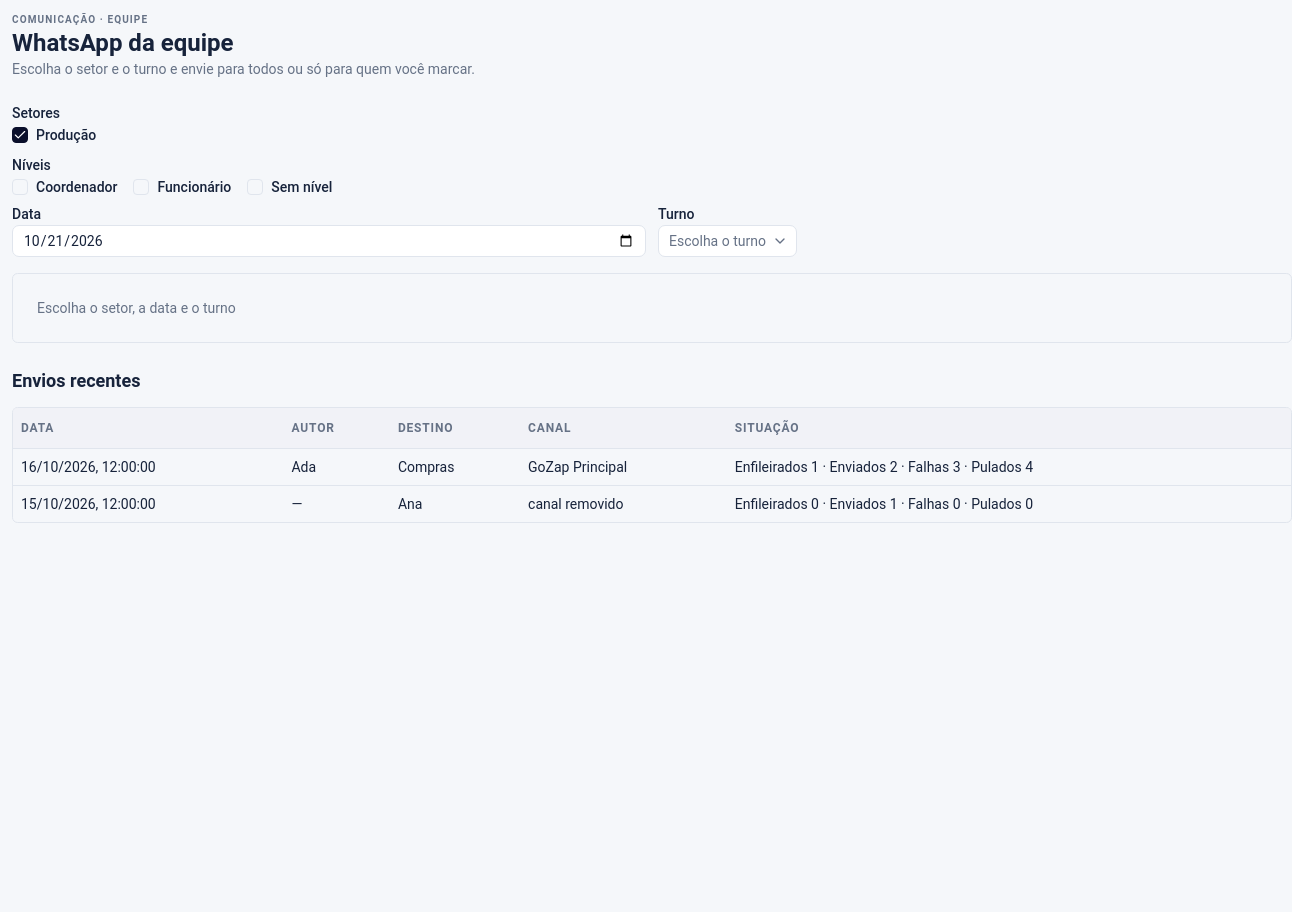
Test: WhatsApp da equipe: seletores › pré-seleciona o setor quando há um só e pede só o turno
Expected: the checkbox named "Produção" next to "Produção" is checked, [12,127,28,143]
Expected: the text "Escolha o setor, a data e o turno" is shown, [12,273,1291,343]
Click the dropdown labelled "turno": [727, 241] box [658,225,797,257]
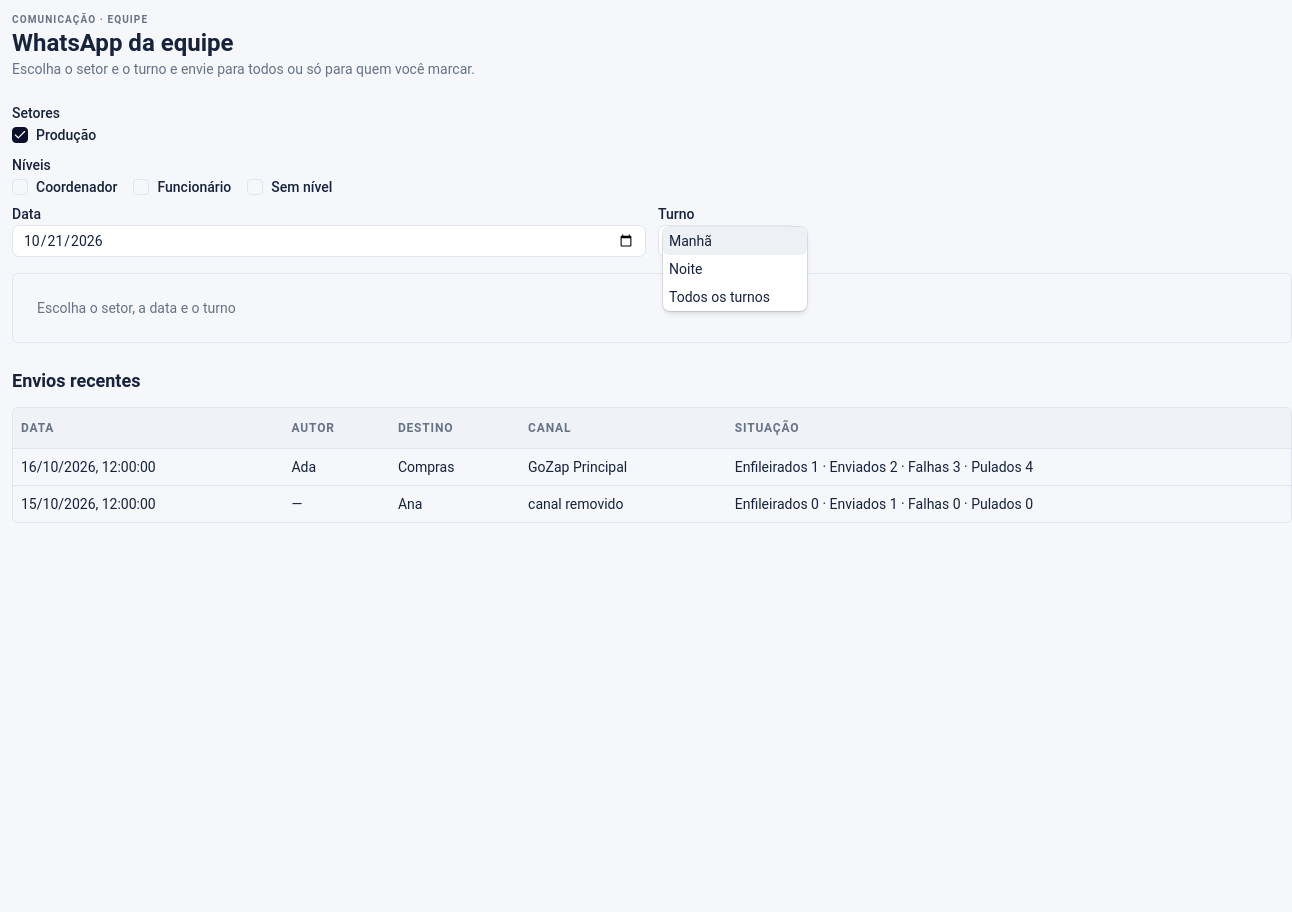
Click the option "Noite": [686, 269] box [669,261,702,277]
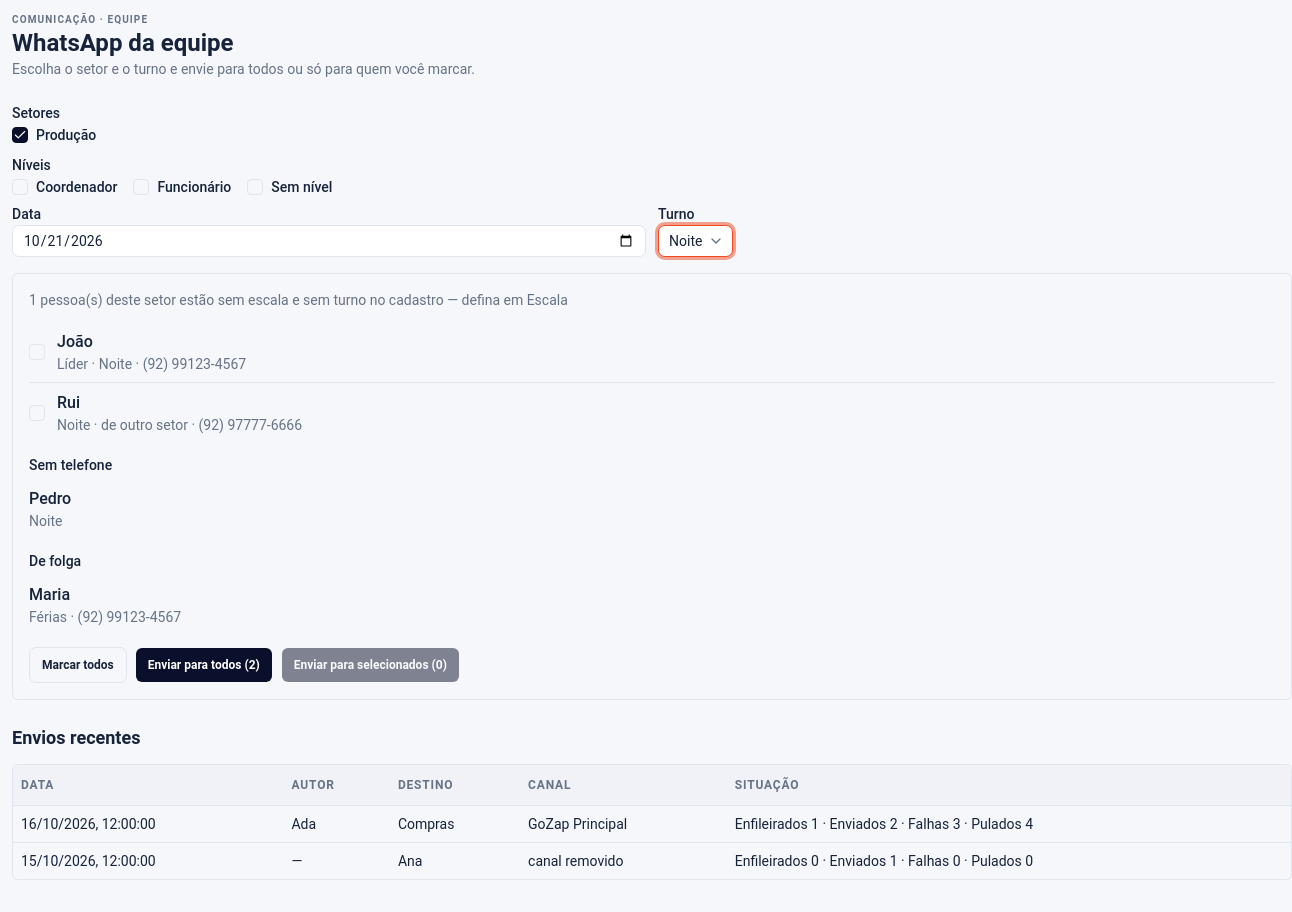
Result: the text "Escolha o setor, a data e o turno" is gone
